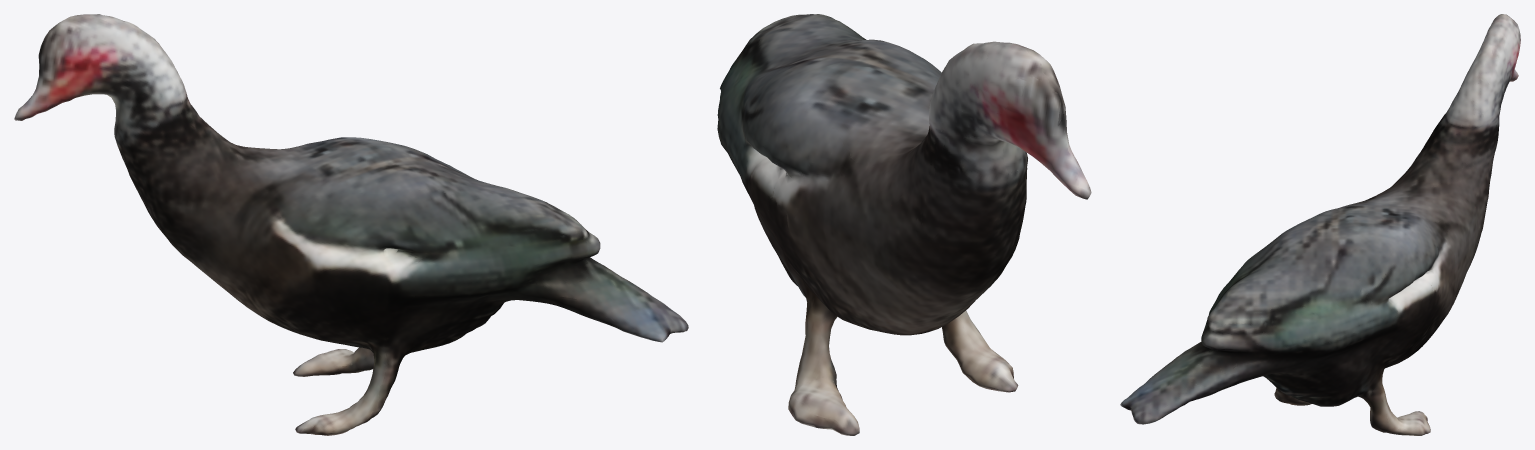
File: adulto.glb
3 renders of one model, left to right at view 1: azimuth 30°, elevation 25°; view 2: azimuth 150°, elevation 25°; view 3: azimuth 270°, elevation 25°, orthographic. The views are drawn at different scales.
Parts seen in each view (by area): view 1: mesh; view 2: mesh; view 3: mesh.
Boxes of the visible parts, left/top/right/bottom form: mesh: left=14, top=14, right=688, bottom=435; mesh: left=717, top=14, right=1091, bottom=435; mesh: left=1120, top=14, right=1520, bottom=435.
Size of the model in its own units: 1.46 by 1.11 by 1.23.
Materials: 1 (1 with a texture image).
